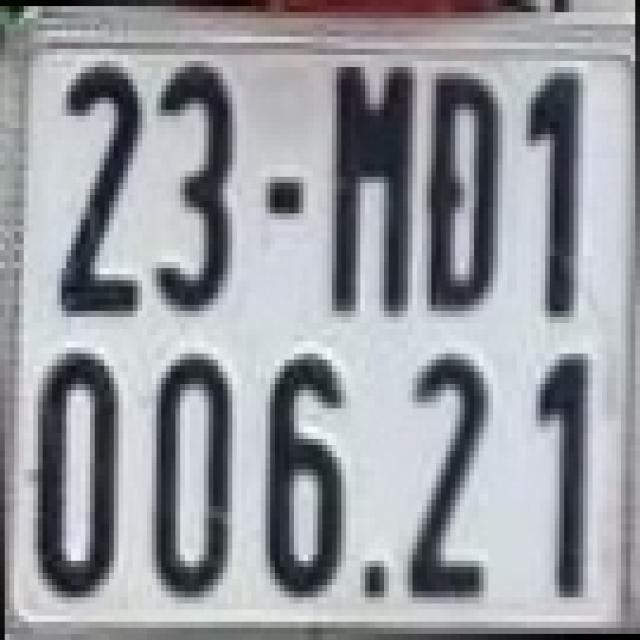0: (33, 348, 119, 598), (152, 353, 232, 598)
1: (531, 348, 597, 604), (521, 67, 588, 317)
2: (57, 61, 142, 317), (408, 348, 488, 598)
3: (156, 61, 237, 311)
6: (261, 348, 346, 598)
D: (427, 73, 498, 311)
M: (322, 52, 422, 314)
